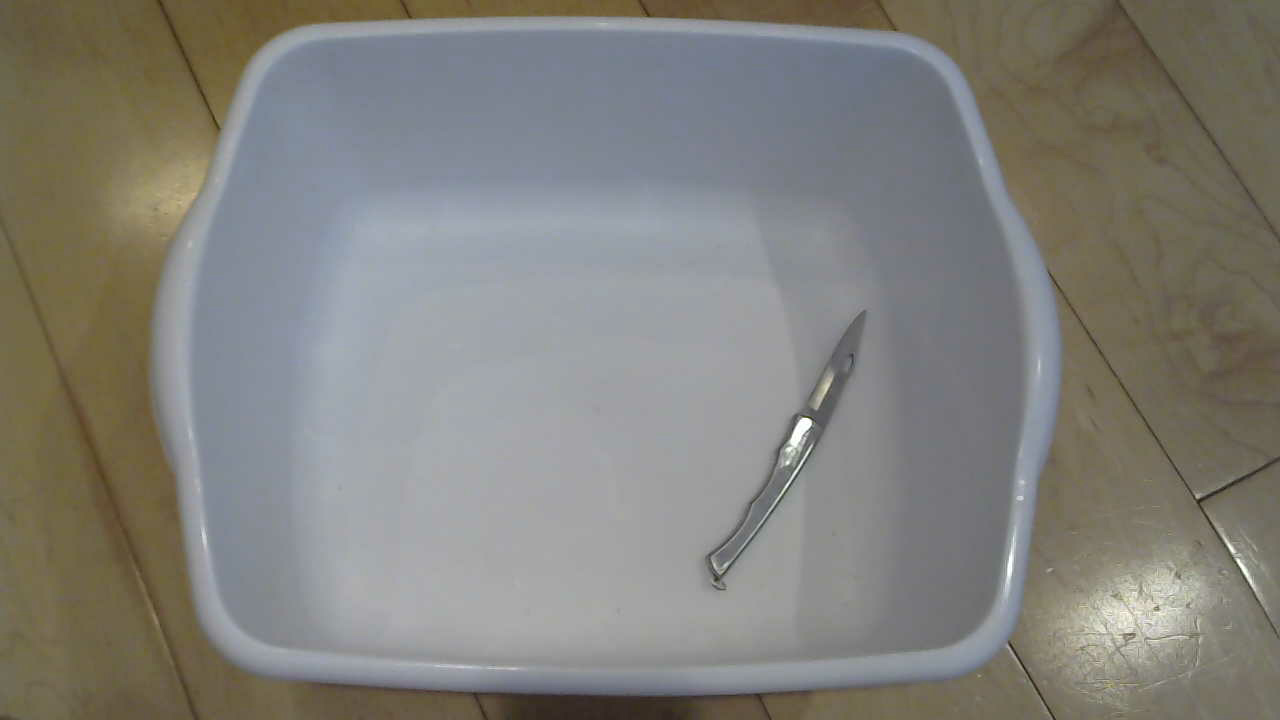knife: (698, 308, 875, 595)
